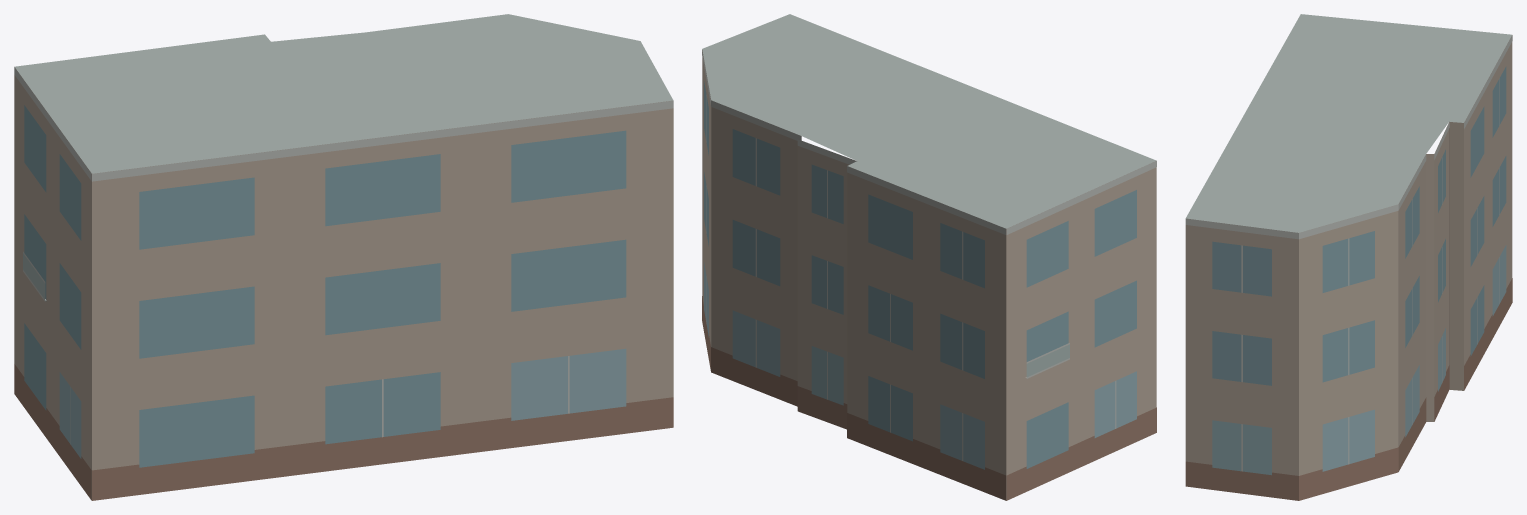
Rendered from survey-upis-32987898.glb.
3 views of the same model, side by side, from view 1: azimuth 30°, elevation 25°; view 2: azimuth 150°, elevation 25°; view 3: azimuth 270°, elevation 25° (orthographic). The views are drawn at different scales.
Parts seen in each view (by area): view 1: survey-upis-32987898.tmp; view 2: survey-upis-32987898.tmp; view 3: survey-upis-32987898.tmp.
Boxes of the visible parts, x1,y1,x2,y2 form: survey-upis-32987898.tmp: (14,14,673,500); survey-upis-32987898.tmp: (702,14,1156,500); survey-upis-32987898.tmp: (1185,14,1512,500).
Bounding box in the file's own units: 17.88 × 10.2 × 11.29.
